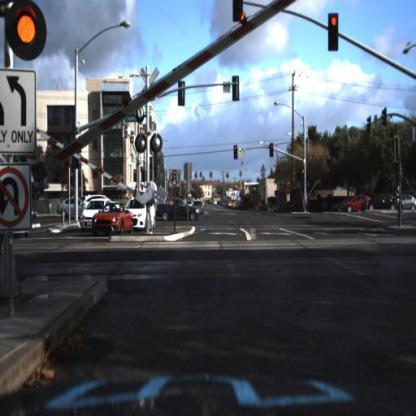car: (87, 202, 132, 234), (124, 195, 158, 232), (158, 198, 200, 223), (362, 191, 404, 214), (75, 197, 102, 231), (52, 198, 87, 222), (344, 193, 374, 216), (330, 195, 352, 213), (188, 195, 206, 216), (192, 198, 203, 214)
trafficLight: (11, 1, 43, 54), (232, 1, 244, 24)
trafficLight-Red: (327, 12, 339, 50), (268, 138, 276, 160), (300, 164, 306, 185), (232, 142, 238, 160), (270, 140, 274, 156)
